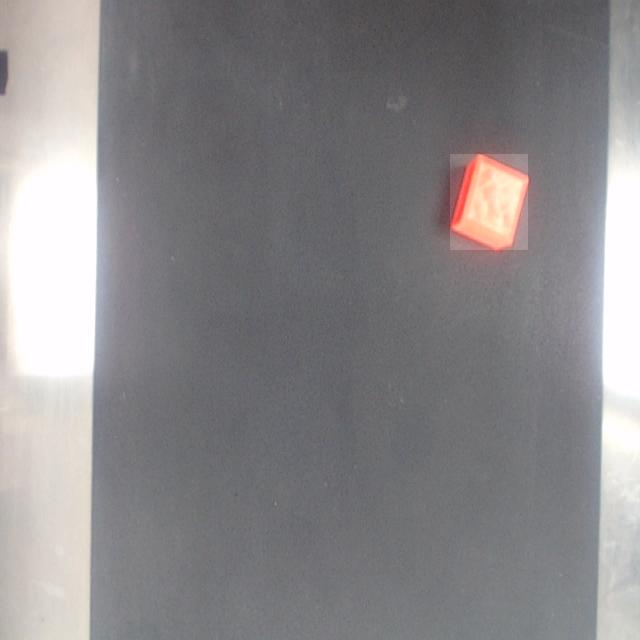Rojo: (450, 155, 528, 250)
